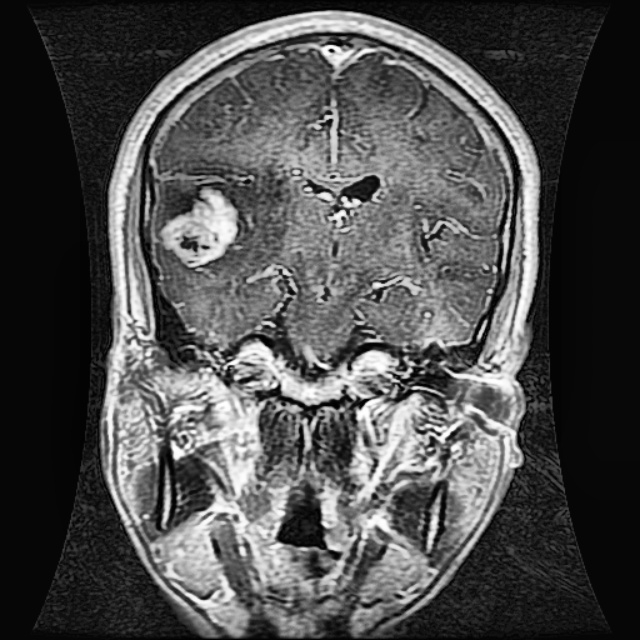Meningioma: (157, 182, 243, 270)
